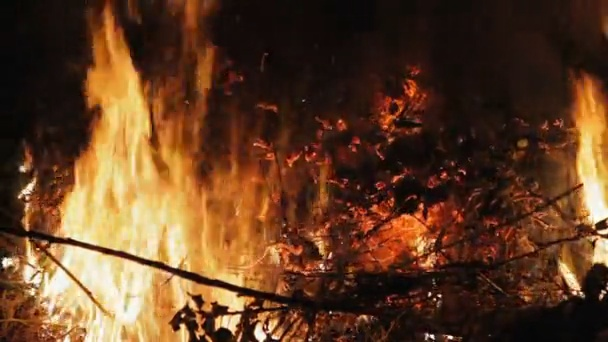fire: (4, 1, 273, 342), (575, 75, 608, 264), (560, 262, 578, 293)
